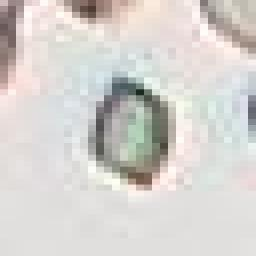crystals: (83, 67, 179, 193)
